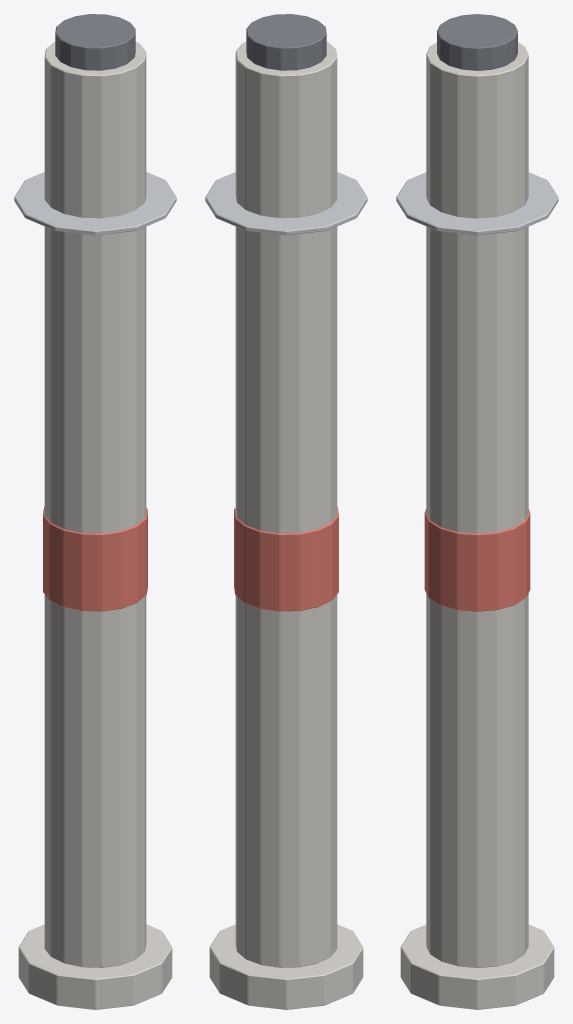
The picture shows the model from 3 angles, left to right: view 1: azimuth 30°, elevation 25°; view 2: azimuth 150°, elevation 25°; view 3: azimuth 270°, elevation 25°; orthographic projection.
Parts seen in each view (by area): view 1: 筒身, 红白环, 基座.003, 平台.001, 顶口; view 2: 筒身, 红白环, 基座.003, 平台.001, 顶口; view 3: 筒身, 红白环, 基座.003, 平台.001, 顶口.
Boxes of the visible parts, box(x1,y1,x2,y2) form: 筒身: box(44, 41, 146, 967); 红白环: box(43, 507, 147, 611); 基座.003: box(18, 924, 172, 1009); 平台.001: box(14, 172, 176, 235); 顶口: box(55, 14, 135, 70); 筒身: box(235, 41, 337, 967); 红白环: box(234, 507, 338, 611); 基座.003: box(209, 924, 363, 1009); 平台.001: box(205, 172, 367, 235); 顶口: box(246, 14, 326, 70); 筒身: box(426, 42, 528, 967); 红白环: box(424, 509, 530, 611); 基座.003: box(400, 924, 554, 1009); 平台.001: box(396, 172, 558, 235); 顶口: box(437, 14, 517, 70).
Bounding box in the file's own units: 379 × 2440 × 379.
